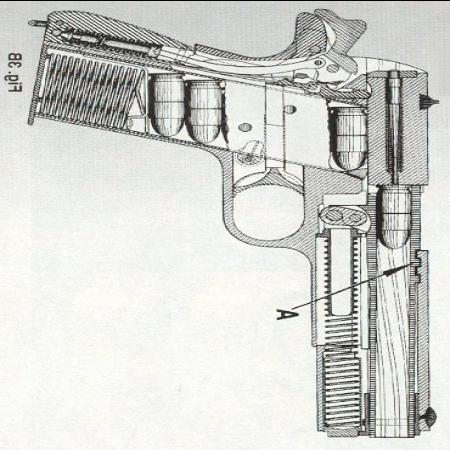Pistol: (26, 8, 440, 438)
